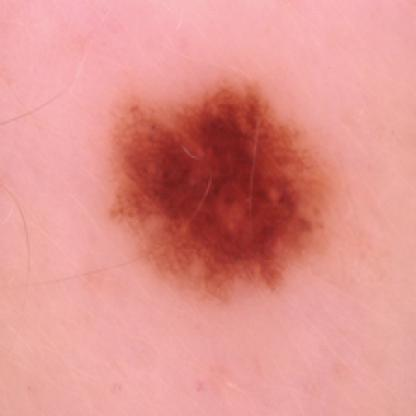benign: (106, 82, 327, 284)
